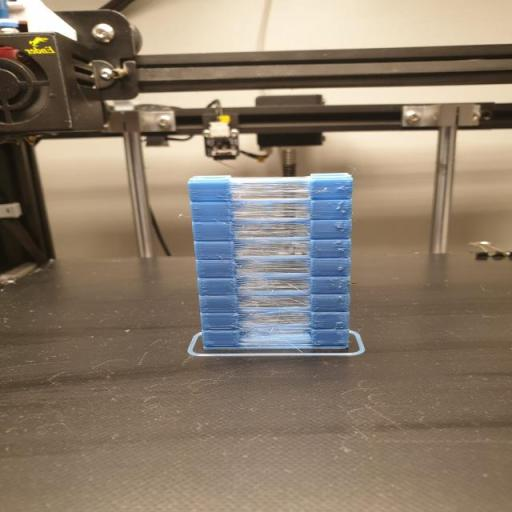stringing: (236, 178, 310, 197), (234, 204, 310, 216), (238, 224, 310, 234), (240, 262, 312, 272), (240, 296, 310, 306), (242, 314, 309, 324), (240, 244, 310, 253), (238, 281, 308, 289)
